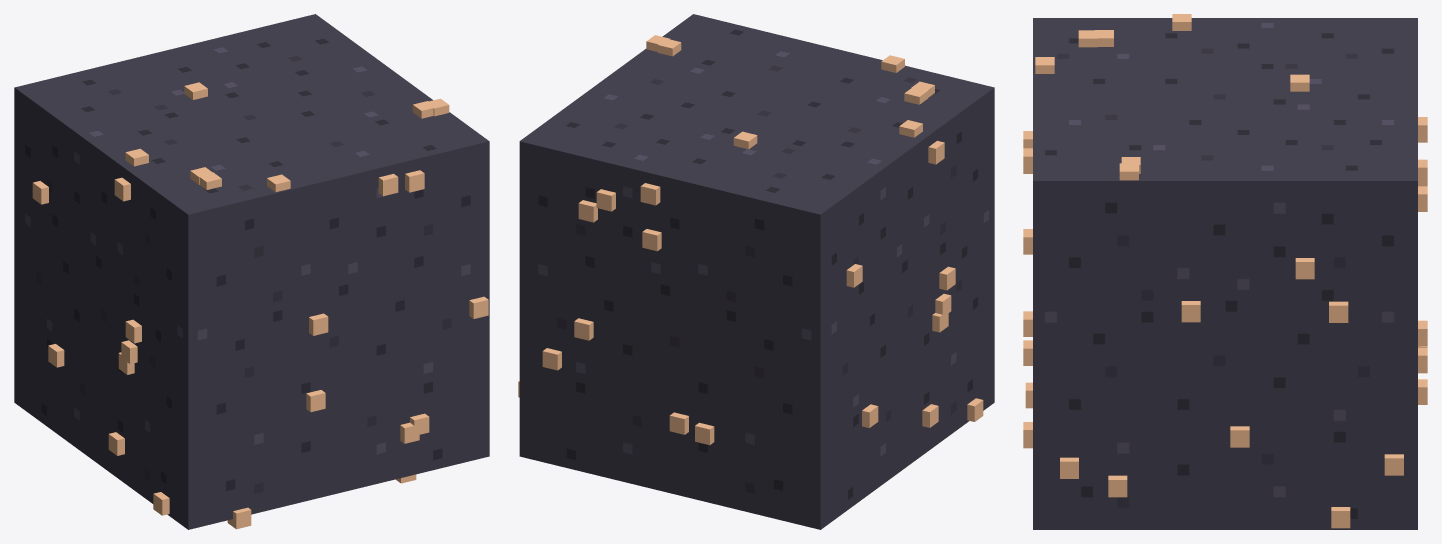
File: ore1_4.fbx
3 renders of one model, left to right at view 1: azimuth 30°, elevation 25°; view 2: azimuth 150°, elevation 25°; view 3: azimuth 270°, elevation 25°, orthographic. The views are drawn at different scales.
Visible parts, largest first — view 1: Iron 3.001; view 2: Iron 3.001; view 3: Iron 3.001.
Part boxes in pixels (left/top/right/bottom): Iron 3.001: left=14, top=14, right=489, bottom=529; Iron 3.001: left=518, top=14, right=994, bottom=529; Iron 3.001: left=1023, top=14, right=1427, bottom=529.
Bounding box in the file's own units: 210 × 210 × 210.
